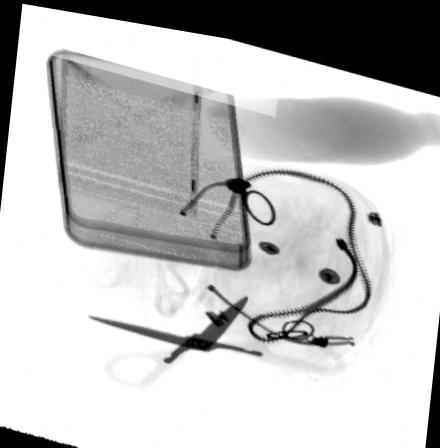Scissors: (90, 286, 343, 389)
